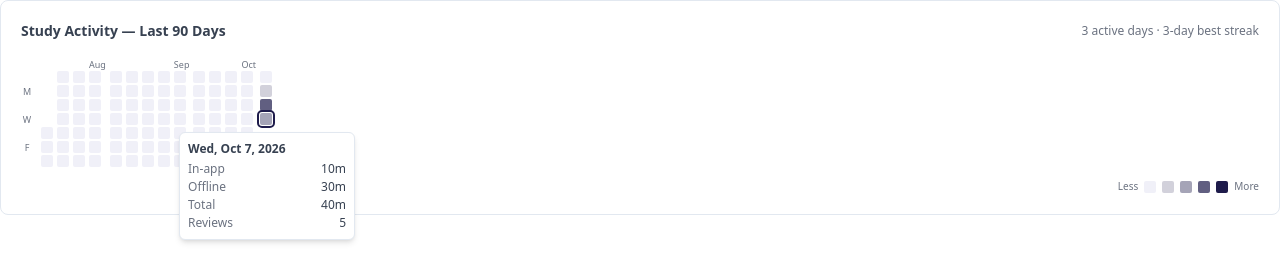
Test case: closing a pinned card › Escape closes it
Click the button named "Wed, Oct 7, 2026: in-app 10m, offline 30m, total study time" at {"x": 266, "y": 119}, box [260,113,272,125]
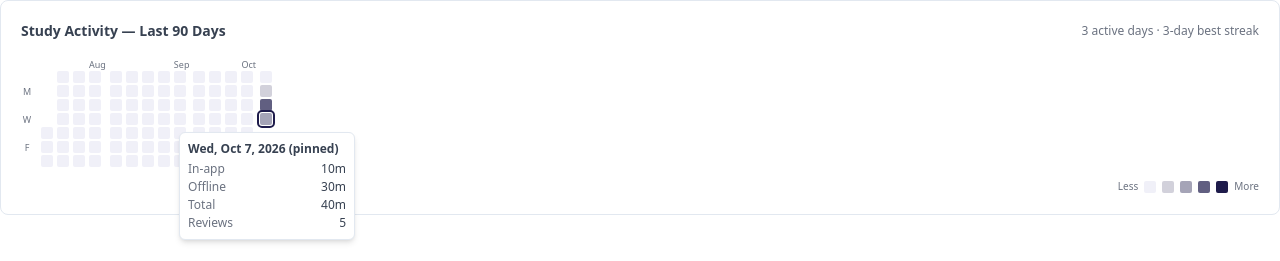
Expected: the element with test id "heatmap-card" is shown, [179,132,355,240]
Press Escape in the button named "Wed, Oct 7, 2026: in-app 10m, offline 30m, total study time", box [260,113,272,125]
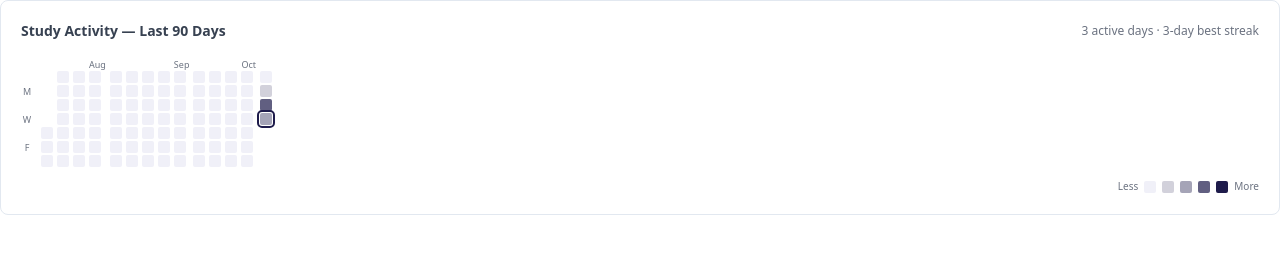
Expected: the element with test id "heatmap-card" is gone
